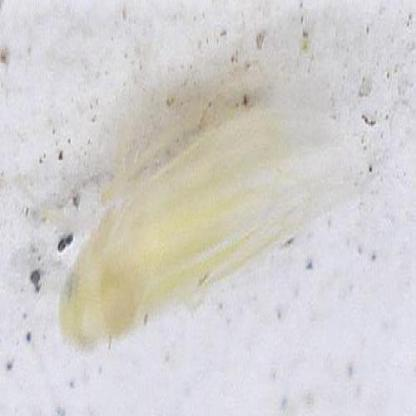green-leafhopper: (56, 79, 358, 358)
